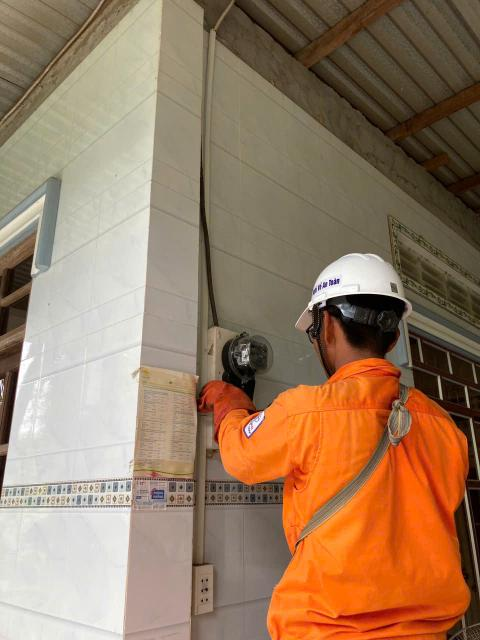gloves: (187, 368, 261, 432)
helmet: (295, 237, 412, 327)
